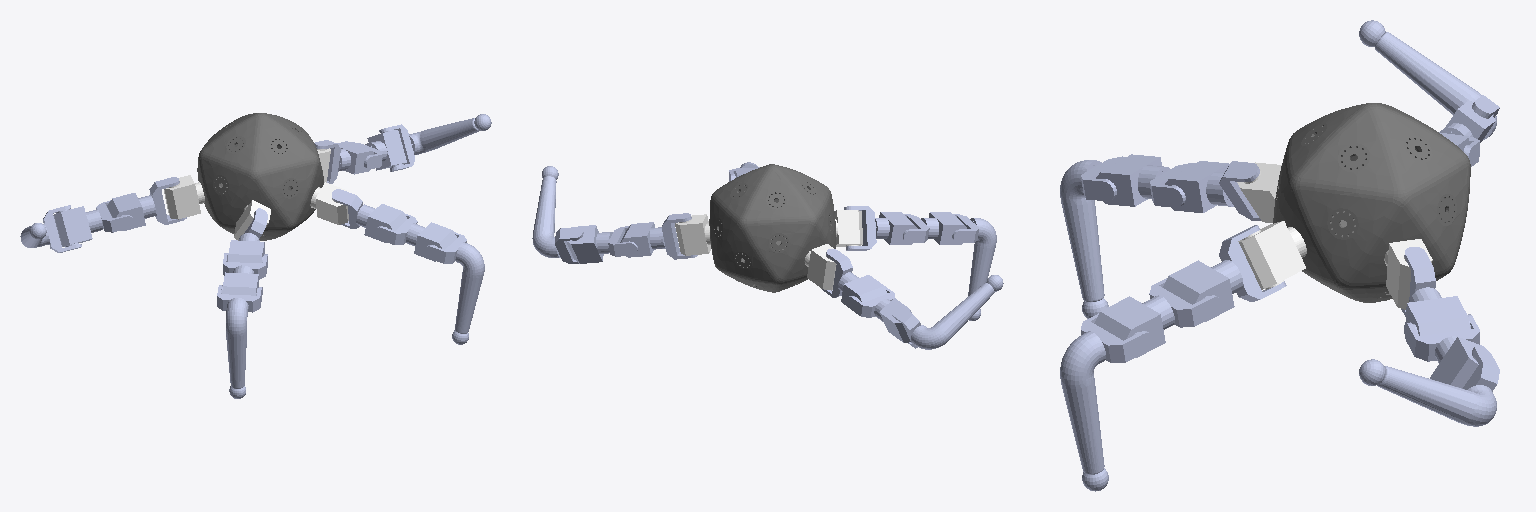
The robot description file, URDF, robot "mod_test":
<robot name="mod_test">
  <link name="base_link">
    <inertial>
      <origin xyz="-1.5226495220944E-06 1.5812928362389E-07 -5.05247252856584E-07" rpy="0 0 0" />
      <mass value="0" />
      <inertia ixx="0.00237499139253511" ixy="1.5717831530364E-08" ixz="1.49286265366169E-08" iyy="0.00237502154661776" iyz="-2.02154172619351E-08" izz="0.00237502595466009" />
    </inertial>
    <visual>
      <origin xyz="0 0 0" rpy="0 0 0" />
      <geometry>
        <mesh filename="package://meshes/base_link.STL" />
      </geometry>
      <material name="">
        <color rgba="0.498039215686275 0.498039215686275 0.498039215686275 0.5" />
      </material>
    </visual>
    </link>
  <link name="110">
   <inertial>
      <origin xyz="0 0 0.028508" rpy="0 0 0" />
      <mass value="0" />
      <inertia ixx="3.054E-05" ixy="-0.000000" ixz="-0.000000" iyy="2.1077E-05" iyz="-0.000000" izz="2.1165E-05" />
    </inertial>
    <visual>
      <origin xyz="0 0 0" rpy="0 0 0" />
      <geometry>
        <mesh filename="package://meshes/1.STL" />
      </geometry>
      <material name="">
        <color rgba="1 1 1 0.5" />
      </material>
    </visual>
    </link>
  <joint name="body_110" type="fixed">
    <origin xyz="0.083523 0.027138 -0.016769" rpy="1.759466 -0.000000 1.884956" />
    <parent link="base_link" />
    <child link="110" />
    <axis xyz="0 0 0" />
  </joint>
  <link name="111">
    <inertial>
      <origin xyz="0.060018 -1.4108E-06 1.4108E-06" rpy="0 0 0" />
    <mass value="0" />
      <inertia ixx="3.2684e-05" ixy="-2.5662e-09" ixz="2.5662e-09" iyy="8.4132e-05" iyz="-2.1275e-13" izz="8.4583e-05" />
    </inertial>
    <visual>
      <origin xyz="0 0 0" rpy="0 0 0" />
      <geometry>
        <mesh filename="package://meshes/module9.STL" />
      </geometry>
      <material name="">
        <color rgba="0.79216 0.81961 0.93333 0.5" />
      </material>
    </visual>
    </link>
  <joint name="110_111" type="revolute">
    <origin xyz="0 0 0.04" rpy="-1.558 -1.5708 -0.012835" />
    <parent link="110" />
    <child link="111" />
    <axis xyz="0 0 1" />
    <limit lower="-6.28" upper="6.28" effort="10" velocity="100" />
  </joint>
  <link name="112">
    <inertial>
      <origin xyz="0.060018 -1.4108E-06 1.4108E-06" rpy="0 0 0" />
    <mass value="0" />
      <inertia ixx="3.2684e-05" ixy="-2.5662e-09" ixz="2.5662e-09" iyy="8.6498e-05" iyz="4.0975e-06" izz="8.2217e-05" />
    </inertial>
    <visual>
      <origin xyz="0 0 0" rpy="0 0 0" />
      <geometry>
        <mesh filename="package://meshes/module2.STL" />
      </geometry>
      <material name="">
        <color rgba="0.79216 0.81961 0.93333 0.5" />
      </material>
    </visual>
    </link>
  <joint name="111_112" type="revolute">
    <origin xyz="0.0816 0 0" rpy="4.712389 0 0" />
    <parent link="111" />
    <child link="112" />
    <axis xyz="0 0 1" />
    <limit lower="-6.28" upper="6.28" effort="10" velocity="100" />
  </joint>
  <link name="113">
    <inertial>
      <origin xyz="0.051733 -0.042281 -1.3878E-17" rpy="0 0 0" />
    <mass value="0" />
      <inertia ixx="0.00025425" ixy="4.8319E-05" ixz="0" iyy="5.0194E-05" iyz="-3.3141E-21" izz="0.00027482" />
    </inertial>
    <visual>
      <origin xyz="0 0 0" rpy="0 0 0" />
      <geometry>
        <mesh filename="package://meshes/leg.STL" />
      </geometry>
      <material name="">
        <color rgba="0.79216 0.81961 0.93333 0.5" />
      </material>
    </visual>
    </link>
  <joint name="112_113" type="revolute">
    <origin xyz="0.0816 0 0" rpy="1.047198 0 0" />
    <parent link="112" />
    <child link="113" />
    <axis xyz="0 0 1" />
    <limit lower="-6.28" upper="6.28" effort="10" velocity="100" />
  </joint>
  <link name="100">
   <inertial>
      <origin xyz="0 0 0.028508" rpy="0 0 0" />
      <mass value="0" />
      <inertia ixx="3.054E-05" ixy="0.000000" ixz="-0.000000" iyy="2.1077E-05" iyz="0.000021" izz="2.1165E-05" />
    </inertial>
    <visual>
      <origin xyz="0 0 0" rpy="0 0 0" />
      <geometry>
        <mesh filename="package://meshes/1.STL" />
      </geometry>
      <material name="">
        <color rgba="1 1 1 0.5" />
      </material>
    </visual>
    </link>
  <joint name="body_100" type="fixed">
    <origin xyz="0.051620 -0.071049 -0.016769" rpy="1.787804 -0.513383 0.520455" />
    <parent link="base_link" />
    <child link="100" />
    <axis xyz="0 0 0" />
  </joint>
  <link name="101">
    <inertial>
      <origin xyz="0.060018 -1.4108E-06 1.4108E-06" rpy="0 0 0" />
    <mass value="0" />
      <inertia ixx="3.2684e-05" ixy="-2.5662e-09" ixz="2.5662e-09" iyy="8.6498e-05" iyz="4.0975e-06" izz="8.2217e-05" />
    </inertial>
    <visual>
      <origin xyz="0 0 0" rpy="0 0 0" />
      <geometry>
        <mesh filename="package://meshes/module8.STL" />
      </geometry>
      <material name="">
        <color rgba="0.79216 0.81961 0.93333 0.5" />
      </material>
    </visual>
    </link>
  <joint name="100_101" type="revolute">
    <origin xyz="0 0 0.04" rpy="-1.558 -1.5708 -0.012835" />
    <parent link="100" />
    <child link="101" />
    <axis xyz="0 0 1" />
    <limit lower="-6.28" upper="6.28" effort="10" velocity="100" />
  </joint>
  <link name="102">
    <inertial>
      <origin xyz="0.060018 -1.4108E-06 1.4108E-06" rpy="0 0 0" />
    <mass value="0" />
      <inertia ixx="3.2684e-05" ixy="-2.5662e-09" ixz="2.5662e-09" iyy="9.3595e-05" iyz="-2.1275e-13" izz="7.512e-05" />
    </inertial>
    <visual>
      <origin xyz="0 0 0" rpy="0 0 0" />
      <geometry>
        <mesh filename="package://meshes/module6.STL" />
      </geometry>
      <material name="">
        <color rgba="0.79216 0.81961 0.93333 0.5" />
      </material>
    </visual>
    </link>
  <joint name="101_102" type="revolute">
    <origin xyz="0.0816 0 0" rpy="4.188790 0 0" />
    <parent link="101" />
    <child link="102" />
    <axis xyz="0 0 1" />
    <limit lower="-6.28" upper="6.28" effort="10" velocity="100" />
  </joint>
  <link name="103">
    <inertial>
      <origin xyz="0.051733 -0.042281 -1.3878E-17" rpy="0 0 0" />
    <mass value="0" />
      <inertia ixx="0.00025425" ixy="4.8319E-05" ixz="0" iyy="5.0194E-05" iyz="-3.3141E-21" izz="0.00027482" />
    </inertial>
    <visual>
      <origin xyz="0 0 0" rpy="0 0 0" />
      <geometry>
        <mesh filename="package://meshes/leg.STL" />
      </geometry>
      <material name="">
        <color rgba="0.79216 0.81961 0.93333 0.5" />
      </material>
    </visual>
    </link>
  <joint name="102_103" type="revolute">
    <origin xyz="0.0816 0 0" rpy="3.141593 0 0" />
    <parent link="102" />
    <child link="103" />
    <axis xyz="0 0 1" />
    <limit lower="-6.28" upper="6.28" effort="10" velocity="100" />
  </joint>
  <link name="140">
   <inertial>
      <origin xyz="0 0 0.028508" rpy="0 0 0" />
      <mass value="0" />
      <inertia ixx="3.054E-05" ixy="0.000000" ixz="-0.000000" iyy="2.1077E-05" iyz="-0.000000" izz="2.1165E-05" />
    </inertial>
    <visual>
      <origin xyz="0 0 0" rpy="0 0 0" />
      <geometry>
        <mesh filename="package://meshes/1.STL" />
      </geometry>
      <material name="">
        <color rgba="1 1 1 0.5" />
      </material>
    </visual>
    </link>
  <joint name="body_140" type="fixed">
    <origin xyz="-0.051620 -0.071049 -0.016769" rpy="-1.787804 -0.513383 2.621137" />
    <parent link="base_link" />
    <child link="140" />
    <axis xyz="0 0 0" />
  </joint>
  <link name="141">
    <inertial>
      <origin xyz="0.060018 -1.4108E-06 1.4108E-06" rpy="0 0 0" />
    <mass value="0" />
      <inertia ixx="3.2241e-05" ixy="3.5298e-07" ixz="2.0781e-07" iyy="8.5969e-05" iyz="-3.9192e-06" izz="8.1482e-05" />
    </inertial>
    <visual>
      <origin xyz="0 0 0" rpy="0 0 0" />
      <geometry>
        <mesh filename="package://meshes/module4.STL" />
      </geometry>
      <material name="">
        <color rgba="0.79216 0.81961 0.93333 0.5" />
      </material>
    </visual>
    </link>
  <joint name="140_141" type="revolute">
    <origin xyz="0 0 0.04" rpy="-1.558 -1.5708 -0.012835" />
    <parent link="140" />
    <child link="141" />
    <axis xyz="0 0 1" />
    <limit lower="-6.28" upper="6.28" effort="10" velocity="100" />
  </joint>
  <link name="142">
    <inertial>
      <origin xyz="0.060018 -1.4108E-06 1.4108E-06" rpy="0 0 0" />
    <mass value="0" />
      <inertia ixx="3.2684e-05" ixy="-2.5662e-09" ixz="2.5662e-09" iyy="9.3595e-05" iyz="-2.1275e-13" izz="7.512e-05" />
    </inertial>
    <visual>
      <origin xyz="0 0 0" rpy="0 0 0" />
      <geometry>
        <mesh filename="package://meshes/module6.STL" />
      </geometry>
      <material name="">
        <color rgba="0.79216 0.81961 0.93333 0.5" />
      </material>
    </visual>
    </link>
  <joint name="141_142" type="revolute">
    <origin xyz="0.0816 0 0" rpy="2.094395 0 0" />
    <parent link="141" />
    <child link="142" />
    <axis xyz="0 0 1" />
    <limit lower="-6.28" upper="6.28" effort="10" velocity="100" />
  </joint>
  <link name="143">
    <inertial>
      <origin xyz="0.051733 -0.042281 -1.3878E-17" rpy="0 0 0" />
    <mass value="0" />
      <inertia ixx="0.00025425" ixy="4.8319E-05" ixz="0" iyy="5.0194E-05" iyz="-3.3141E-21" izz="0.00027482" />
    </inertial>
    <visual>
      <origin xyz="0 0 0" rpy="0 0 0" />
      <geometry>
        <mesh filename="package://meshes/leg.STL" />
      </geometry>
      <material name="">
        <color rgba="0.79216 0.81961 0.93333 0.5" />
      </material>
    </visual>
    </link>
  <joint name="142_143" type="revolute">
    <origin xyz="0.0816 0 0" rpy="3.141593 0 0" />
    <parent link="142" />
    <child link="143" />
    <axis xyz="0 0 1" />
    <limit lower="-6.28" upper="6.28" effort="10" velocity="100" />
  </joint>
  <link name="130">
   <inertial>
      <origin xyz="0 0 0.028508" rpy="0 0 0" />
      <mass value="0" />
      <inertia ixx="3.054E-05" ixy="-0.000000" ixz="-0.000000" iyy="2.1077E-05" iyz="0.000000" izz="2.1165E-05" />
    </inertial>
    <visual>
      <origin xyz="0 0 0" rpy="0 0 0" />
      <geometry>
        <mesh filename="package://meshes/1.STL" />
      </geometry>
      <material name="">
        <color rgba="1 1 1 0.5" />
      </material>
    </visual>
    </link>
  <joint name="body_130" type="fixed">
    <origin xyz="-0.083523 0.027138 -0.016769" rpy="-1.759466 -0.000000 1.256637" />
    <parent link="base_link" />
    <child link="130" />
    <axis xyz="0 0 0" />
  </joint>
  <link name="131">
    <inertial>
      <origin xyz="0.060018 -1.4108E-06 1.4108E-06" rpy="0 0 0" />
    <mass value="0" />
      <inertia ixx="3.2684e-05" ixy="-2.5662e-09" ixz="2.5662e-09" iyy="8.4132e-05" iyz="-2.1275e-13" izz="8.4583e-05" />
    </inertial>
    <visual>
      <origin xyz="0 0 0" rpy="0 0 0" />
      <geometry>
        <mesh filename="package://meshes/module3.STL" />
      </geometry>
      <material name="">
        <color rgba="0.79216 0.81961 0.93333 0.5" />
      </material>
    </visual>
    </link>
  <joint name="130_131" type="revolute">
    <origin xyz="0 0 0.04" rpy="-1.558 -1.5708 -0.012835" />
    <parent link="130" />
    <child link="131" />
    <axis xyz="0 0 1" />
    <limit lower="-6.28" upper="6.28" effort="10" velocity="100" />
  </joint>
  <link name="132">
    <inertial>
      <origin xyz="0.060018 -1.4108E-06 1.4108E-06" rpy="0 0 0" />
    <mass value="0" />
      <inertia ixx="3.2684e-05" ixy="-2.5662e-09" ixz="2.5662e-09" iyy="8.6498e-05" iyz="-4.0975e-06" izz="8.2217e-05" />
    </inertial>
    <visual>
      <origin xyz="0 0 0" rpy="0 0 0" />
      <geometry>
        <mesh filename="package://meshes/module10.STL" />
      </geometry>
      <material name="">
        <color rgba="0.79216 0.81961 0.93333 0.5" />
      </material>
    </visual>
    </link>
  <joint name="131_132" type="revolute">
    <origin xyz="0.0816 0 0" rpy="1.570796 0 0" />
    <parent link="131" />
    <child link="132" />
    <axis xyz="0 0 1" />
    <limit lower="-6.28" upper="6.28" effort="10" velocity="100" />
  </joint>
  <link name="133">
    <inertial>
      <origin xyz="0.051733 -0.042281 -1.3878E-17" rpy="0 0 0" />
    <mass value="0" />
      <inertia ixx="0.00025425" ixy="4.8319E-05" ixz="0" iyy="5.0194E-05" iyz="-3.3141E-21" izz="0.00027482" />
    </inertial>
    <visual>
      <origin xyz="0 0 0" rpy="0 0 0" />
      <geometry>
        <mesh filename="package://meshes/leg.STL" />
      </geometry>
      <material name="">
        <color rgba="0.79216 0.81961 0.93333 0.5" />
      </material>
    </visual>
    </link>
  <joint name="132_133" type="revolute">
    <origin xyz="0.0816 0 0" rpy="5.235988 0 0" />
    <parent link="132" />
    <child link="133" />
    <axis xyz="0 0 1" />
    <limit lower="-6.28" upper="6.28" effort="10" velocity="100" />
  </joint>
  <link name="ball_1">
    <inertial>
    <origin xyz="0 0 0" rpy="0 0 0" />
    <mass value="0" />
      <inertia ixx="0" ixy="0" ixz="0" iyy="0" iyz="0" izz="0" />
    </inertial>    <visual>
      <origin xyz="0 0 0" rpy="0 0 0" />
     <geometry>
        <sphere radius="0.01" />
      </geometry>
      <material name="green">
        <color rgba="0.22 1 0.4 0.5" />
      </material>
    </visual>
  </link>
  <joint name="113_ball1" type="fixed">
    <origin xyz="0.0612 -0.13431 0" rpy="0 0 0" />
    <parent link="113" />
    <child link="ball_1" />
    <axis xyz="0 0 0" />
  </joint>
  <link name="ball_2">
    <inertial>
    <origin xyz="0 0 0" rpy="0 0 0" />
    <mass value="0" />
      <inertia ixx="0" ixy="0" ixz="0" iyy="0" iyz="0" izz="0" />
    </inertial>    <visual>
      <origin xyz="0 0 0" rpy="0 0 0" />
      <geometry>
        <sphere radius="0.01" />
      </geometry>
      <material name="blue">
        <color rgba="0.16 0.52 0.8 0.5" />
      </material>
    </visual>
  </link>
  <joint name="103_ball2" type="fixed">
    <origin xyz="0.0612 -0.13431 0" rpy="0 0 0" />
    <parent link="103" />
    <child link="ball_2" />
    <axis xyz="0 0 0" />
  </joint>
  <link name="ball_3">
    <inertial>
    <origin xyz="0 0 0" rpy="0 0 0" />
    <mass value="0" />
      <inertia ixx="0" ixy="0" ixz="0" iyy="0" iyz="0" izz="0" />
    </inertial>    <visual>
      <origin xyz="0 0 0" rpy="0 0 0" />
     <geometry>
        <sphere radius="0.01" />
      </geometry>
      <material name="blue">
        <color rgba="0.16 0.52 0.8 0.5" />
      </material>
    </visual>
  </link>
  <joint name="143_ball3" type="fixed">
    <origin xyz="0.0612 -0.13431 0" rpy="0 0 0" />
    <parent link="143" />
    <child link="ball_3" />
    <axis xyz="0 0 0" />
  </joint>
  <link name="ball_4">
    <inertial>
    <origin xyz="0 0 0" rpy="0 0 0" />
    <mass value="0" />
      <inertia ixx="0" ixy="0" ixz="0" iyy="0" iyz="0" izz="0" />
    </inertial>    <visual>
      <origin xyz="0 0 0" rpy="0 0 0" />
      <geometry>
        <sphere radius="0.01" />
      </geometry>
      <material name="yellow">
        <color rgba="1 1 0 0.5" />
      </material>
    </visual>
  </link>
  <joint name="133_ball4" type="fixed">
    <origin xyz="0.0612 -0.13431 0" rpy="0 0 0" />
    <parent link="133" />
    <child link="ball_4" />
    <axis xyz="0 0 0" />
  </joint>
</robot>

--- Render facts (derived) ---
Views: 3 orthographic renders of the robot side by side, from view 1: azimuth 30°, elevation 25°; view 2: azimuth 150°, elevation 25°; view 3: azimuth 270°, elevation 25°.
Model mod_test with 21 links and 20 joints (12 revolute, 8 fixed), rooted at base_link, posed all joints at 0.
Visible links, largest first — view 1: base_link, 103, 143, 113, 132, 131, 101, 102, 142, 111, 112, 141 (+4 smaller); view 2: base_link, 133, 113, 143, 111, 112, 141, 131, 142, 132, 110, 130 (+1 smaller); view 3: base_link, 103, 113, 143, 101, 133, 102, 141, 111, 142, 100, 112 (+3 smaller).
Boxes of the visible links, x1,y1,x2,y2 form: base_link: (197,113,323,240); 103: (424,232,484,344); 143: (217,285,262,398); 113: (379,114,491,171); 132: (53,200,133,246); 131: (107,177,186,230); 101: (332,189,406,242); 102: (374,213,456,261); 142: (221,253,267,295); 111: (314,140,374,183); 112: (351,130,406,170); 141: (228,208,267,262); base_link: (709,164,835,292); 133: (891,275,1003,349); 113: (532,166,583,263); 143: (952,214,996,320); 111: (620,213,697,259); 112: (566,225,637,263); 141: (844,206,917,250); 131: (822,249,887,307); 142: (903,212,966,244); 132: (846,286,911,342); 110: (675,214,710,255); 130: (804,244,836,290); base_link: (1273,103,1470,302); 103: (1060,313,1153,491); 113: (1359,345,1499,426); 143: (1060,156,1125,318); 101: (1163,225,1286,321); 133: (1359,20,1499,139); 102: (1094,278,1222,357); 141: (1165,161,1260,220); 111: (1401,247,1470,335); 142: (1096,154,1194,207); 100: (1238,221,1306,289); 112: (1404,314,1485,388).
Bounding box of the posed robot: 0.7821 × 0.4155 × 0.3132 m (x, y, z).
17 mesh visuals loaded from 10 distinct referenced files (10 binary STL).